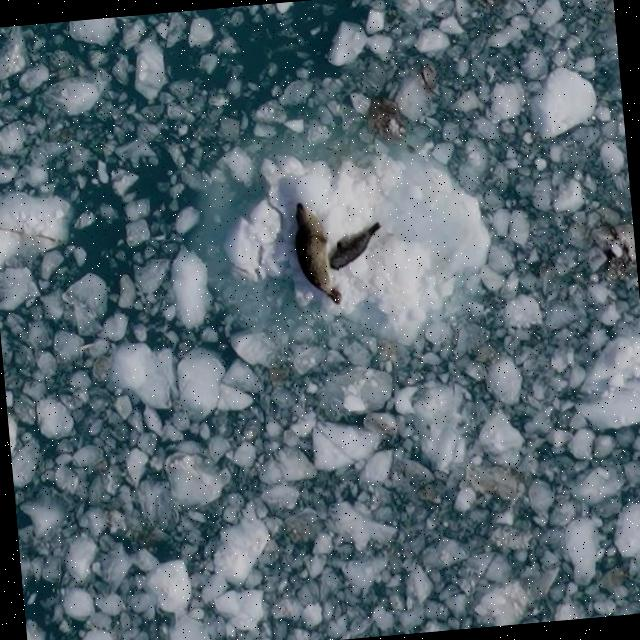seal: (294, 202, 340, 304), (327, 221, 381, 270)
